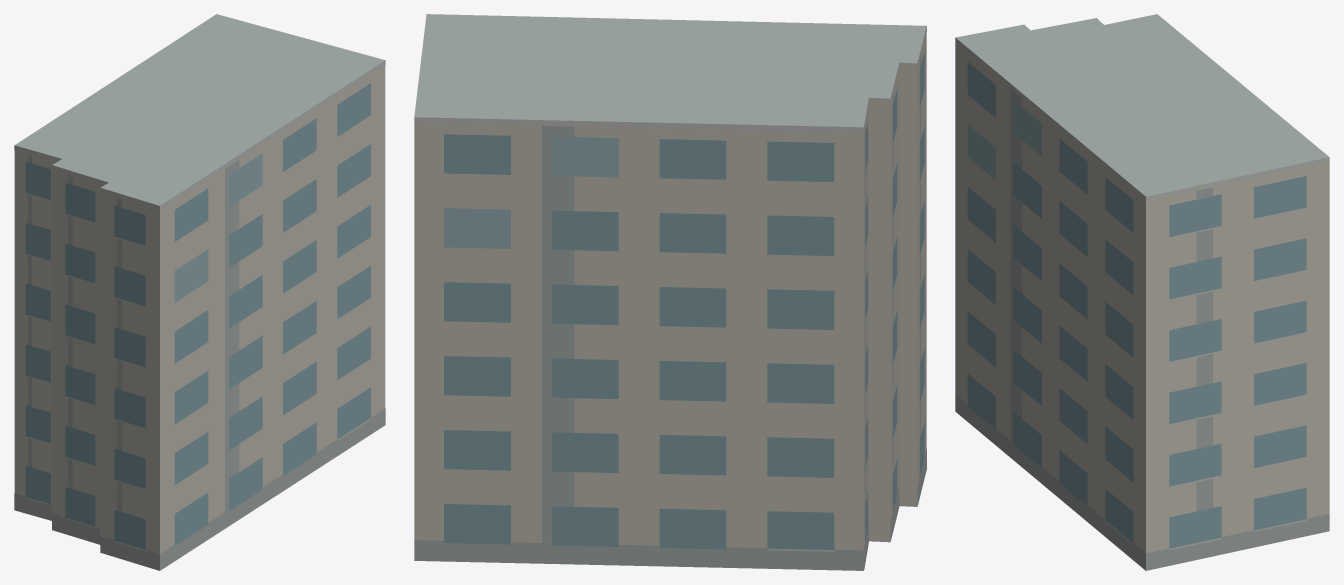
Rendered from survey-upis-33019096.glb.
The picture shows the model from 3 angles, left to right: view 1: azimuth 30°, elevation 25°; view 2: azimuth 150°, elevation 25°; view 3: azimuth 270°, elevation 25°; orthographic projection. The views are drawn at different scales.
Visible parts, largest first — view 1: survey-upis-33019096.tmp; view 2: survey-upis-33019096.tmp; view 3: survey-upis-33019096.tmp.
Boxes of the visible parts, left/top/right/bottom form: survey-upis-33019096.tmp: left=14, top=14, right=385, bottom=570; survey-upis-33019096.tmp: left=414, top=14, right=926, bottom=570; survey-upis-33019096.tmp: left=955, top=14, right=1329, bottom=570.
Bounding box in the file's own units: 19.19 × 18.3 × 16.6.
